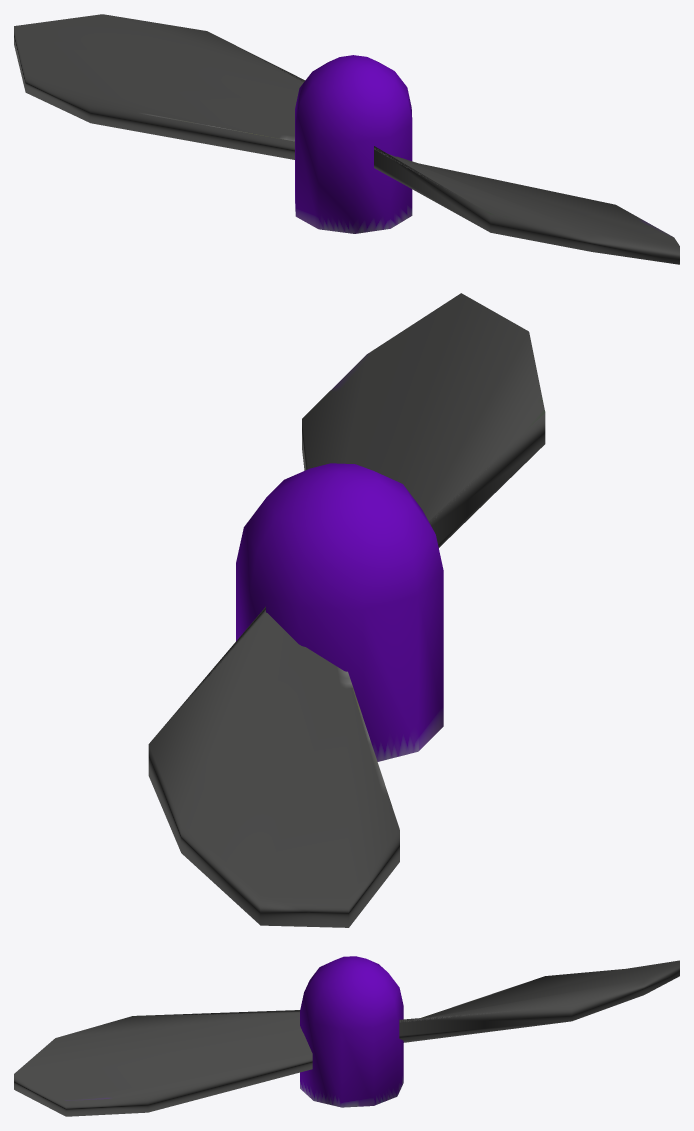
File: SM_Dron_1_SM_D1_Propeller1.fbx
3 views of the same model, one above another, from view 1: azimuth 30°, elevation 25°; view 2: azimuth 150°, elevation 25°; view 3: azimuth 270°, elevation 25° (orthographic). The views are drawn at different scales.
Visible parts, largest first — view 1: SM_Dron_1_SM_D1_Propeller1; view 2: SM_Dron_1_SM_D1_Propeller1; view 3: SM_Dron_1_SM_D1_Propeller1.
Part boxes in pixels (box(x1,y1,x2,y2)): SM_Dron_1_SM_D1_Propeller1: box(14, 14, 679, 264); SM_Dron_1_SM_D1_Propeller1: box(148, 293, 545, 927); SM_Dron_1_SM_D1_Propeller1: box(14, 956, 679, 1116).
Size of the model in its own units: 10.43 by 22.19 by 4.6.
